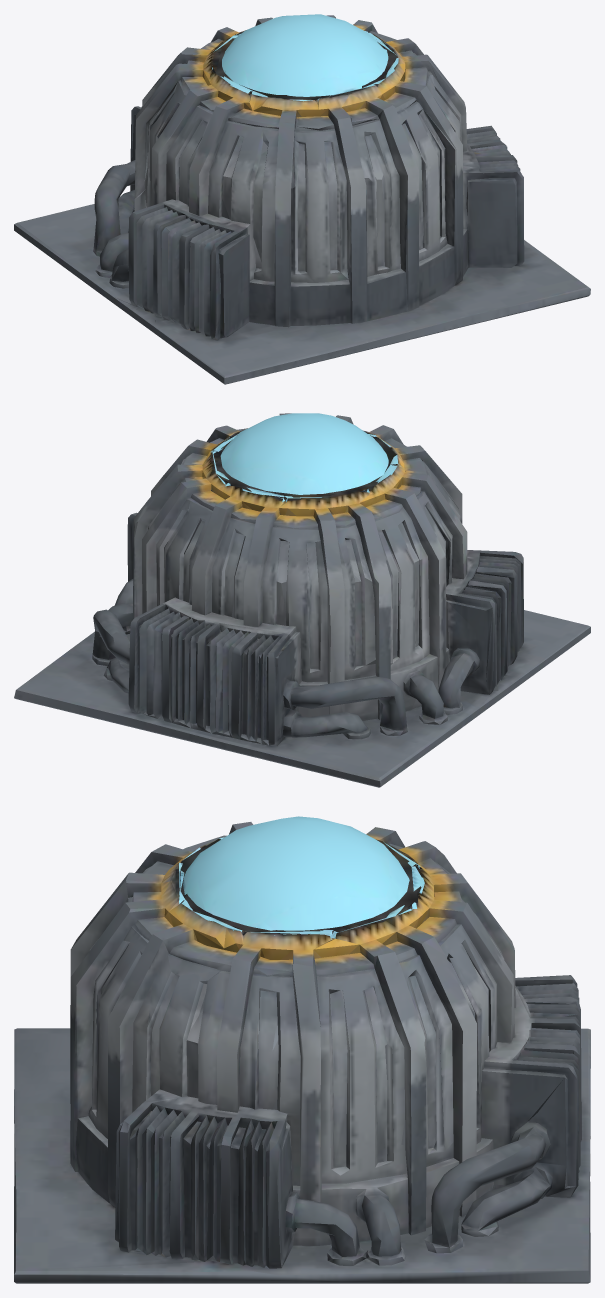
File: town-reactor-light.glb
3 views of the same model, one above another, from view 1: azimuth 30°, elevation 25°; view 2: azimuth 150°, elevation 25°; view 3: azimuth 270°, elevation 25° (orthographic). The views are drawn at different scales.
Parts seen in each view (by area): view 1: town-reactor-light; view 2: town-reactor-light; view 3: town-reactor-light.
Part boxes in pixels (x1,y1,x2,y2): town-reactor-light: (14,14,590,384); town-reactor-light: (14,413,590,787); town-reactor-light: (14,816,590,1283).
Bounding box in the file's own units: 10.79 × 6.79 × 10.72.
Materials: 1 (1 with a texture image).
